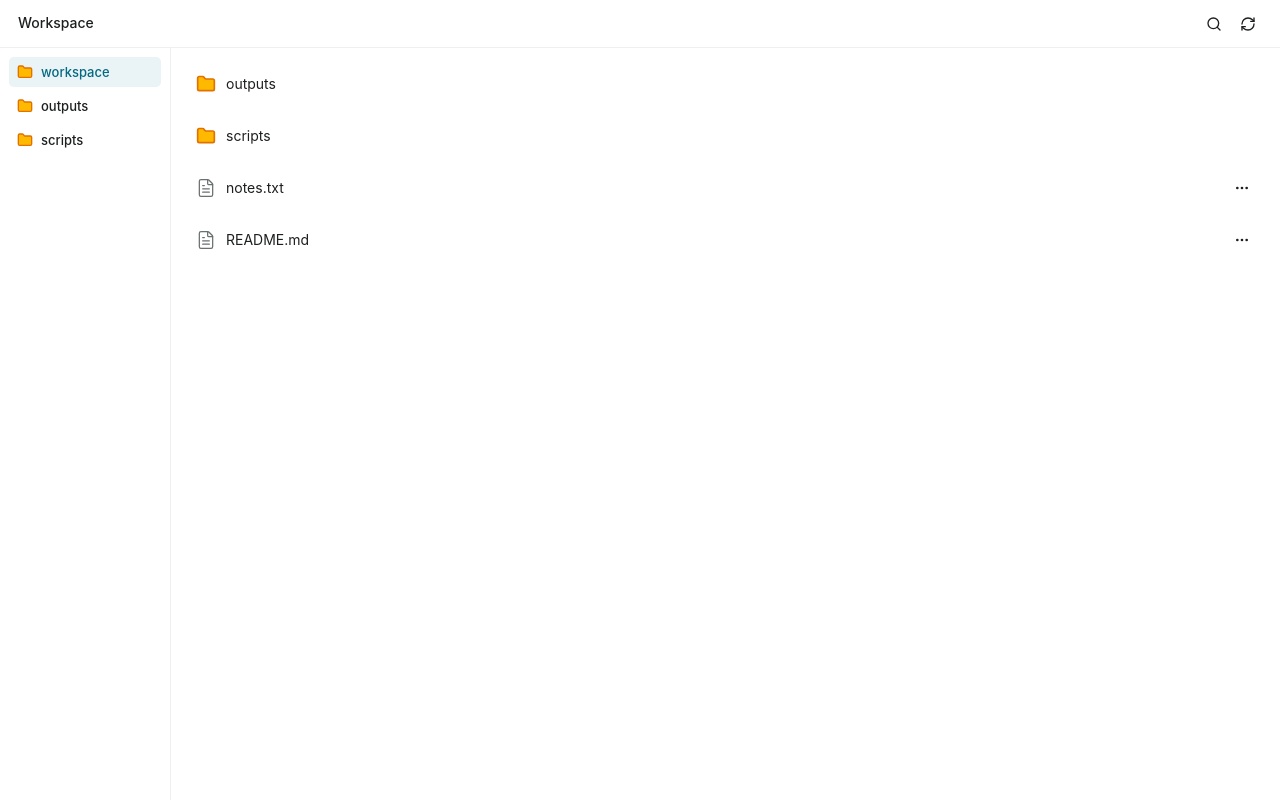
Test: filters the flat file list
Expected: the text "README.md" is shown, [226, 230, 309, 250]
Expected: the heading "Workspace" is shown, [18, 12, 94, 35]
Click the button named "Filter this folder". click: (1214, 24)
box: [1200, 10, 1228, 38]
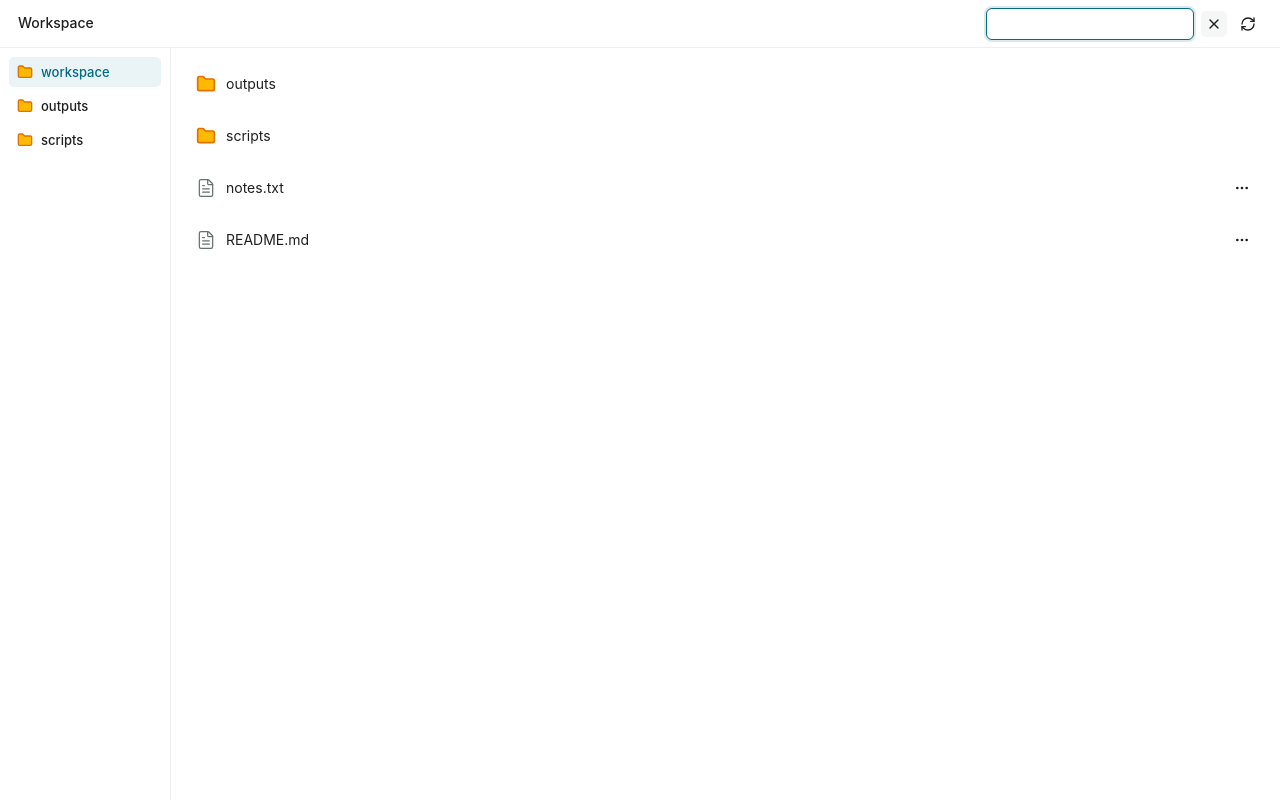
Type "readme" into the field named "Filter this folder". click: (1090, 24)
box: [986, 8, 1194, 40]
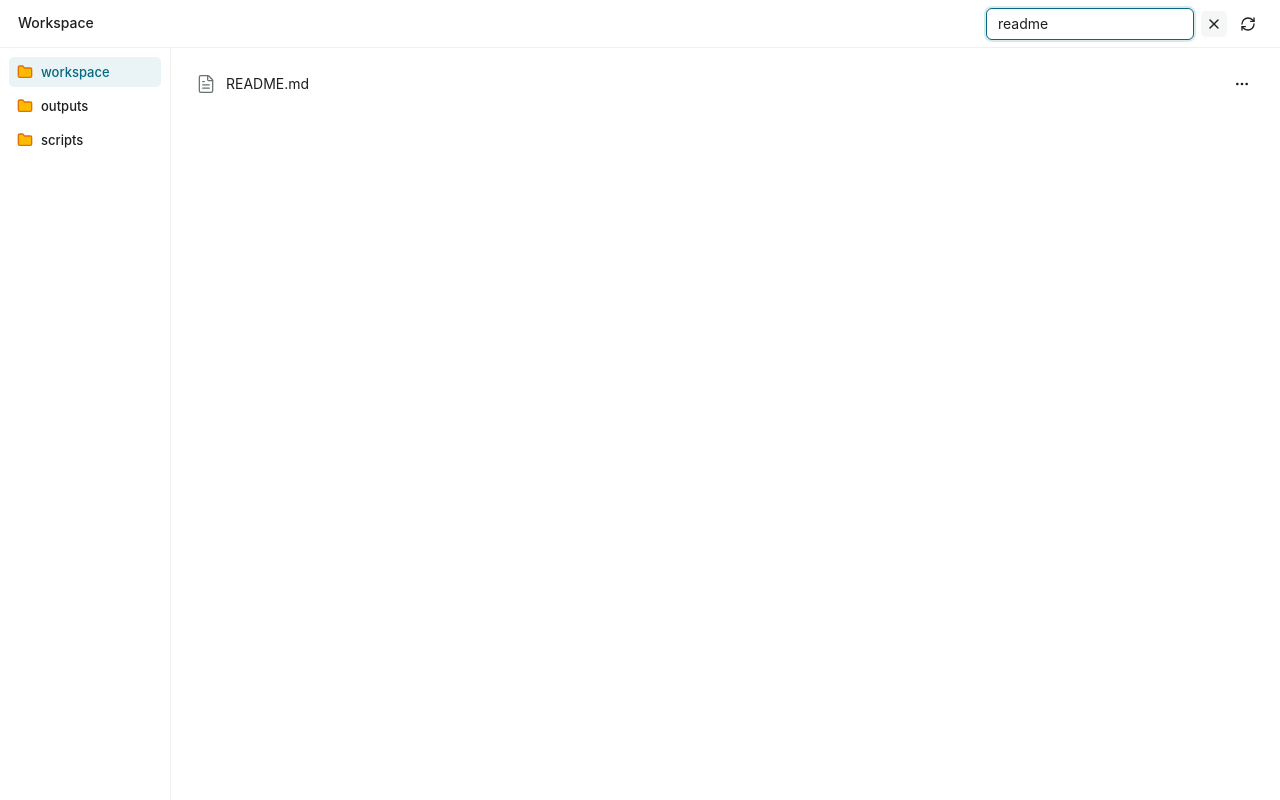
Expected: the text "README.md" is shown, [226, 74, 309, 94]
Result: the button "notes.txt" is gone
